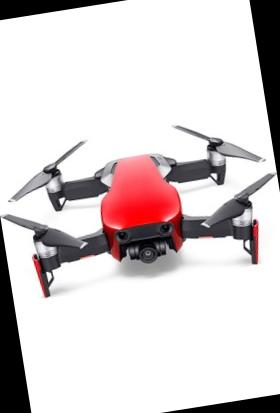drone: (0, 100, 280, 312)
